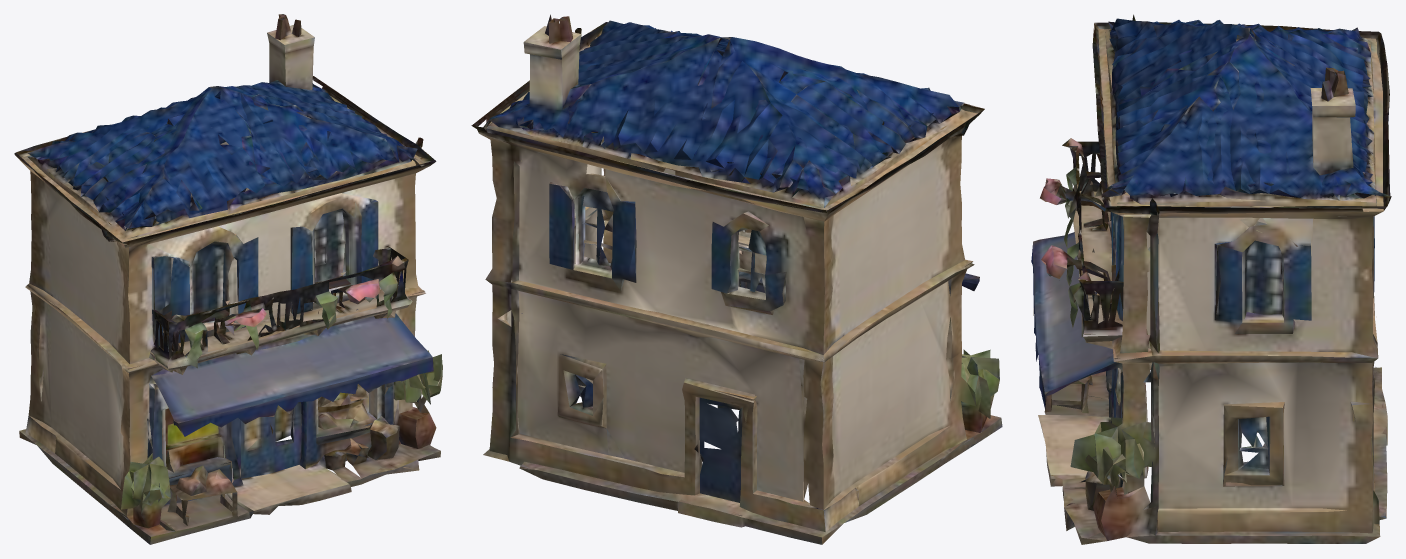
The picture shows the model from 3 angles, left to right: view 1: azimuth 30°, elevation 25°; view 2: azimuth 150°, elevation 25°; view 3: azimuth 270°, elevation 25°; orthographic projection. The views are drawn at different scales.
Visible parts, largest first — view 1: harbor__shop_2__neural_lod; view 2: harbor__shop_2__neural_lod; view 3: harbor__shop_2__neural_lod.
Part boxes in pixels (bbox=[...]): harbor__shop_2__neural_lod: bbox=[14, 14, 442, 544]; harbor__shop_2__neural_lod: bbox=[471, 14, 1002, 544]; harbor__shop_2__neural_lod: bbox=[1031, 14, 1391, 544].
Bounding box in the file's own units: 0.9261 × 0.9995 × 0.7297.
1 material, 1 textured.
